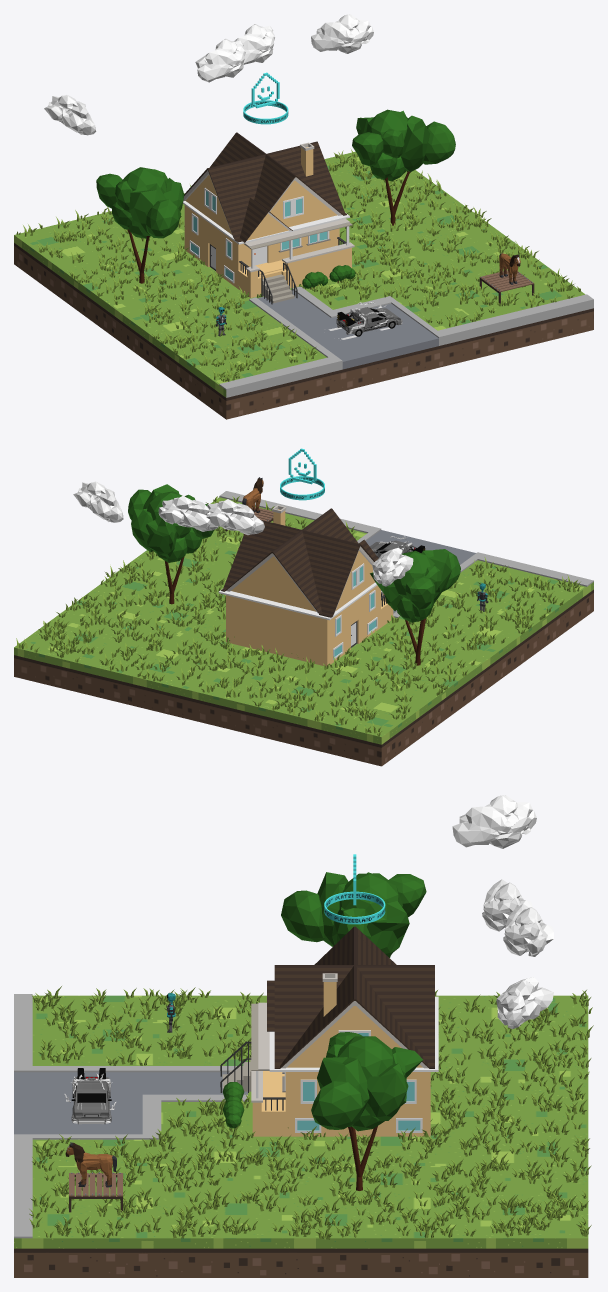
3 views of the same model, one above another, from view 1: azimuth 30°, elevation 25°; view 2: azimuth 150°, elevation 25°; view 3: azimuth 270°, elevation 25° (orthographic). The views are drawn at different scales.
Parts seen in each view (by area): view 1: Cube.006, Cube.235, Circle.012_Grass_0.192, Cube.007, tree, tree.001, VEHICLES_DELOREAN, TYPE_PREMIUM, Cube.009; view 2: Cube.006, Cube.235, Circle.012_Grass_0.192, Cube.007, tree.001, tree, TYPE_PREMIUM, VEHICLES_DELOREAN; view 3: Cube.006, Circle.012_Grass_0.192, Cube.235, tree, Cube.007, tree.001, VEHICLES_DELOREAN, Cube.009, TYPE_PREMIUM, ANIMAL_CABALLO.
Boxes of the visible parts, box(x1,y1,x2,y2) form: Cube.006: box(14, 151, 593, 419); Cube.235: box(183, 132, 354, 304); Circle.012_Grass_0.192: box(16, 149, 580, 381); Cube.007: box(44, 14, 373, 135); tree: box(352, 109, 455, 225); tree.001: box(96, 167, 184, 283); VEHICLES_DELOREAN: box(324, 302, 402, 339); TYPE_PREMIUM: box(243, 72, 288, 124); Cube.009: box(479, 270, 534, 303); Cube.006: box(14, 491, 593, 766); Cube.235: box(218, 505, 393, 666); Circle.012_Grass_0.192: box(16, 496, 580, 736); Cube.007: box(73, 481, 413, 586); tree.001: box(370, 549, 460, 665); tree: box(128, 484, 214, 604); TYPE_PREMIUM: box(280, 448, 324, 500); VEHICLES_DELOREAN: box(370, 536, 425, 558); Cube.006: box(14, 994, 588, 1277); Circle.012_Grass_0.192: box(29, 986, 593, 1239); Cube.235: box(220, 926, 438, 1136); tree: box(311, 1032, 422, 1190); Cube.007: box(452, 795, 553, 1029); tree.001: box(281, 872, 426, 957); VEHICLES_DELOREAN: box(64, 1068, 116, 1124); Cube.009: box(69, 1172, 122, 1212); TYPE_PREMIUM: box(324, 854, 385, 924); ANIMAL_CABALLO: box(65, 1142, 116, 1187).
Size of the model in its own units: 4071 by 2300 by 4040.
44 materials, 4 textured.
